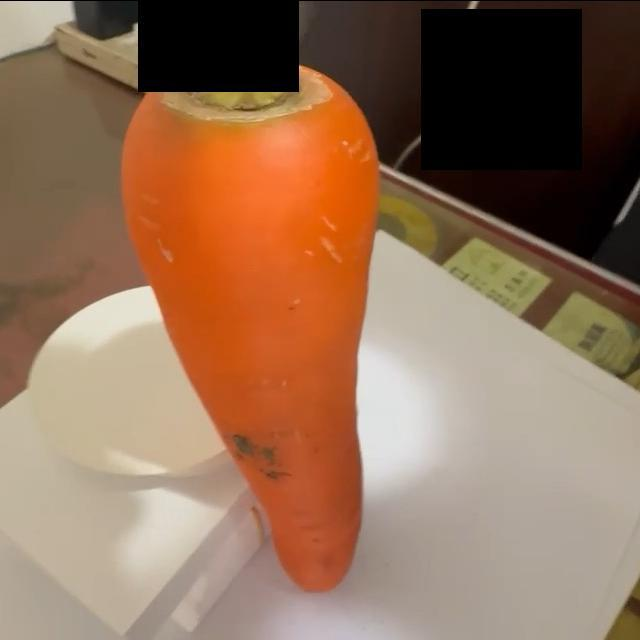carrot: (120, 1, 388, 592)
